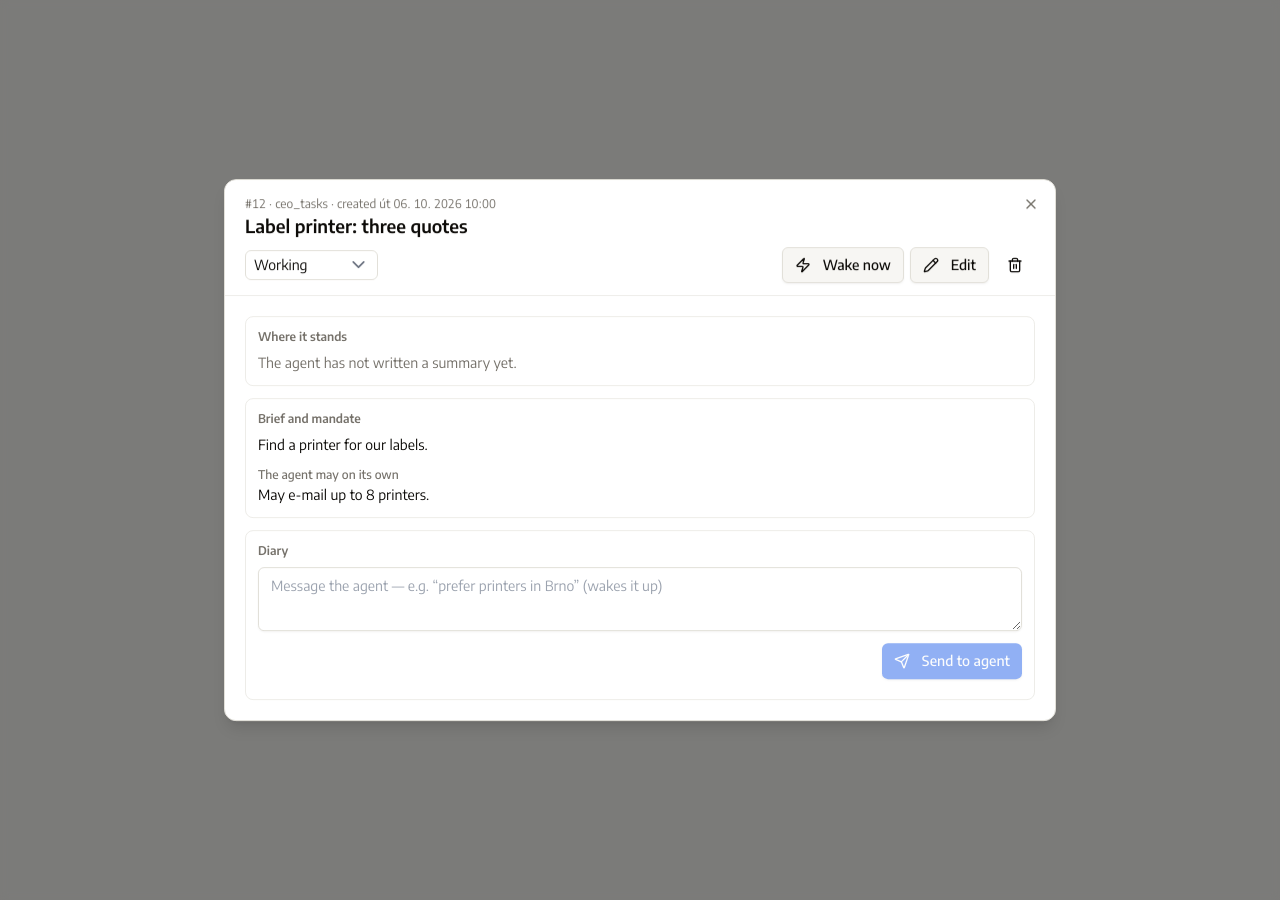
a task deleted elsewhere shows why instead of a stale card
This screenshot has width=1280, height=900.
Replace the text in the text box labelled "Message the agent" with "Ahoj". click: (640, 599)
box: x1=258 y1=567 x2=1022 y2=631
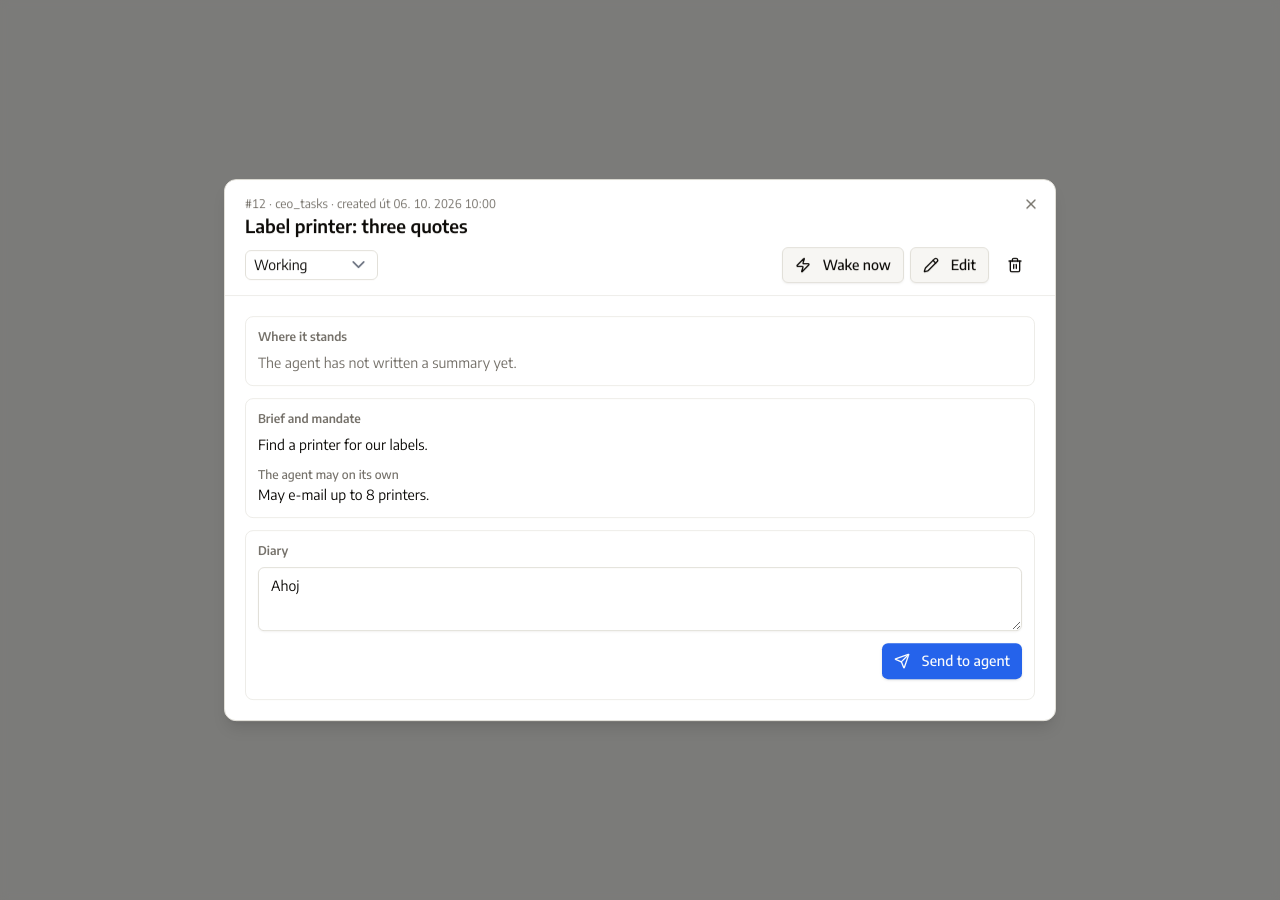
Click the button "Send to agent". click: (952, 661)
box: x1=882 y1=643 x2=1022 y2=679
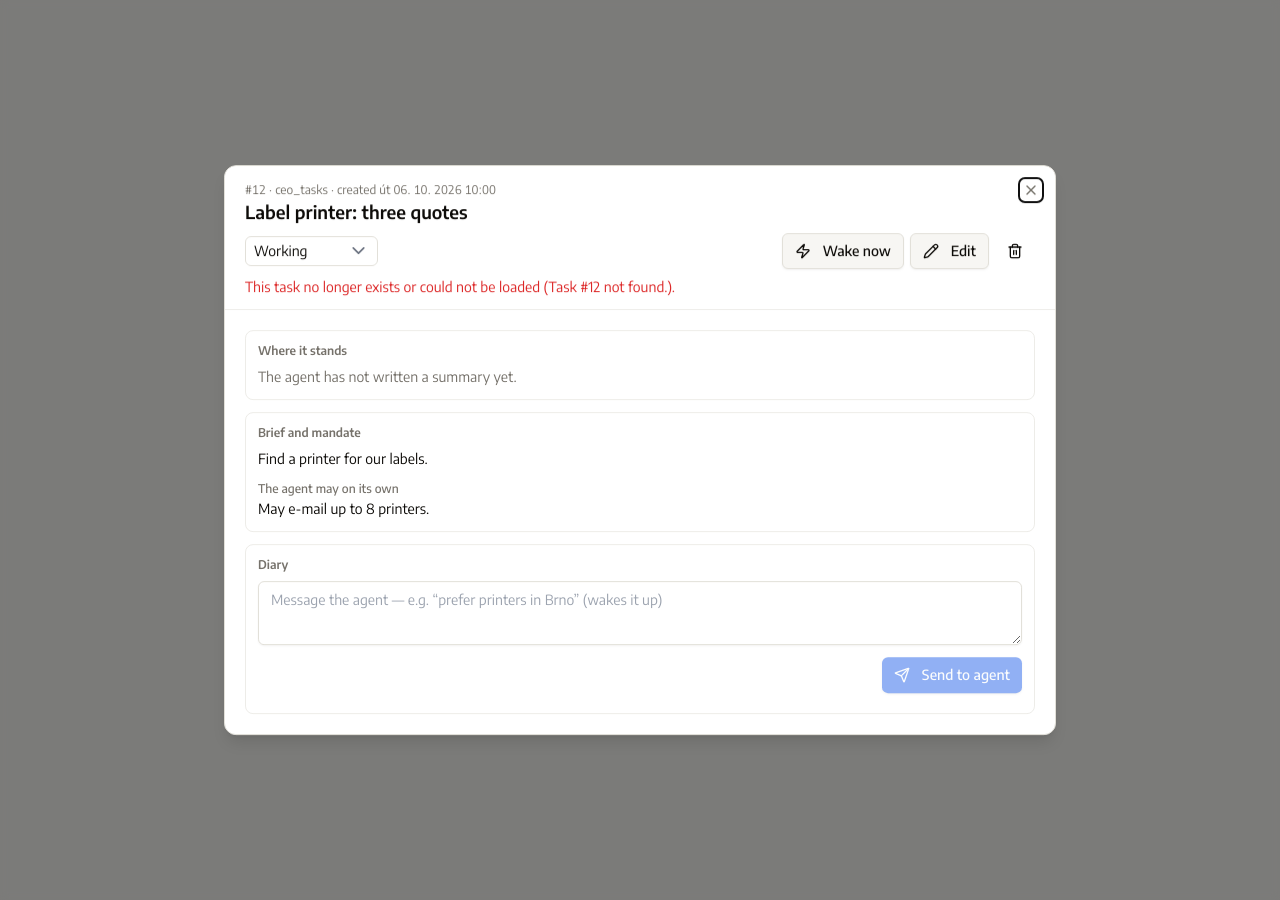
expect the text "This task no longer exists or could not be loaded (Task #12 not found.)." is shown: met, box x1=245 y1=278 x2=675 y2=295
